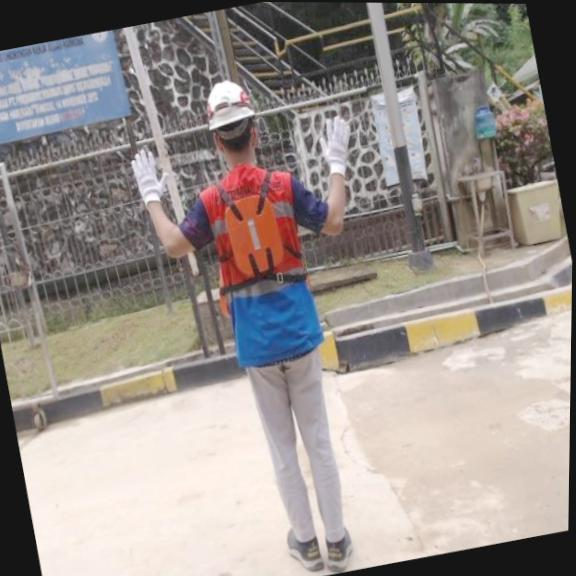safety_vest: (218, 189, 292, 285)
